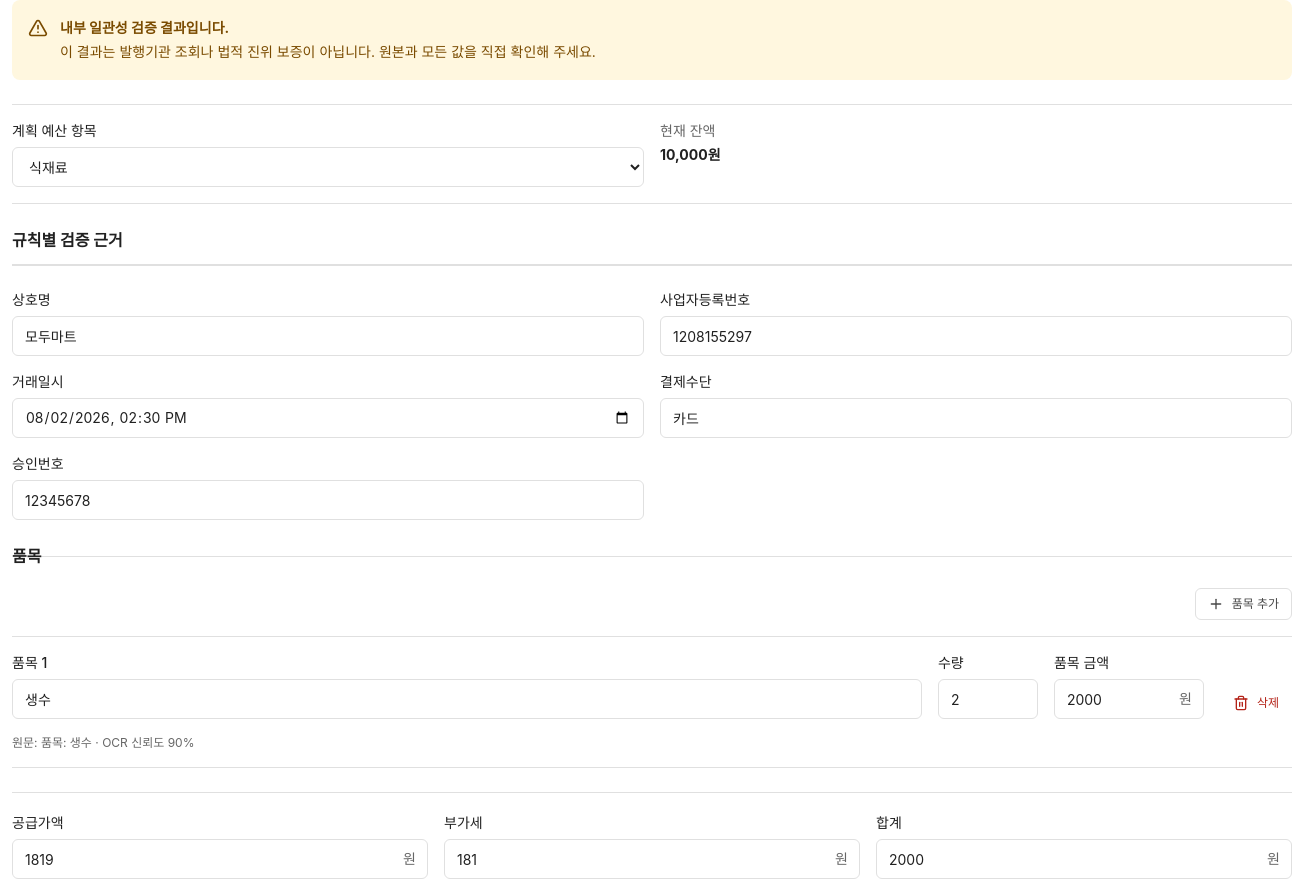
ExecutionReviewForm › allows the reviewer to add and remove item rows
Click the button "품목 추가": (1243, 604) [1195,588,1292,620]
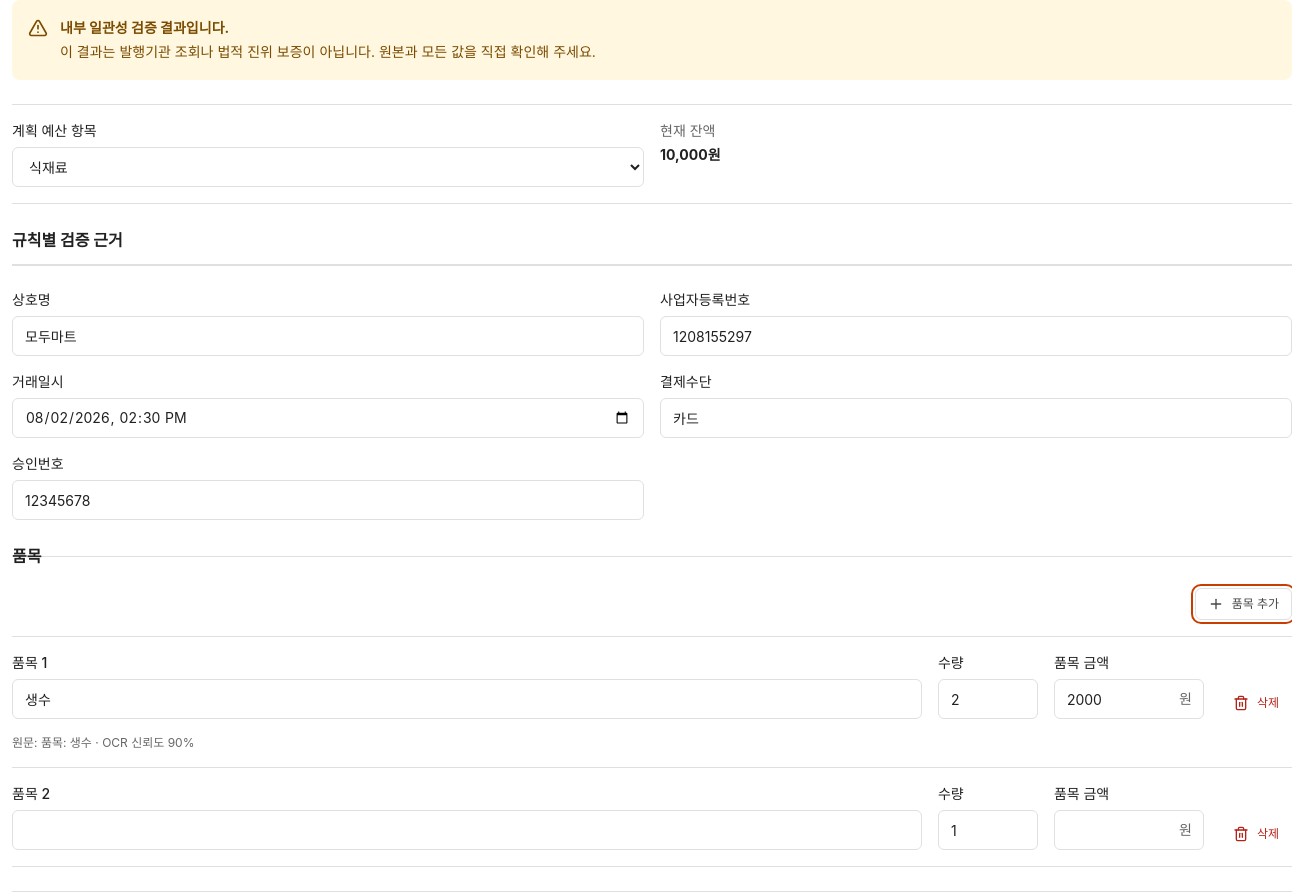
Now the field labelled "품목 2" is shown, box [12,810,922,850]
Click the button with aria-label "품목 1 삭제": (1256, 703) [1220,687,1292,719]
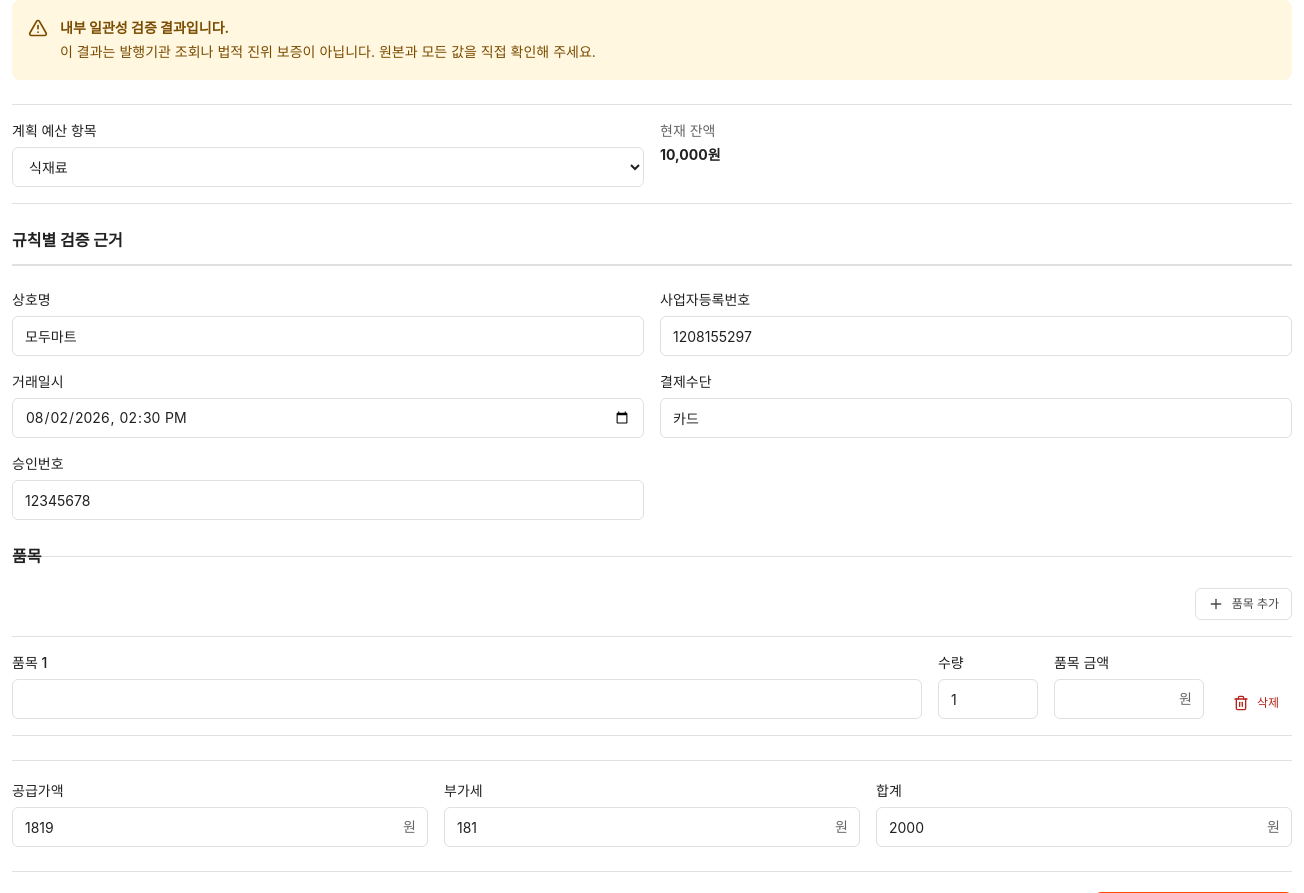
Now the field labelled "품목 1" is empty, box [12,679,922,719]
Now the text showing "생수" is gone
